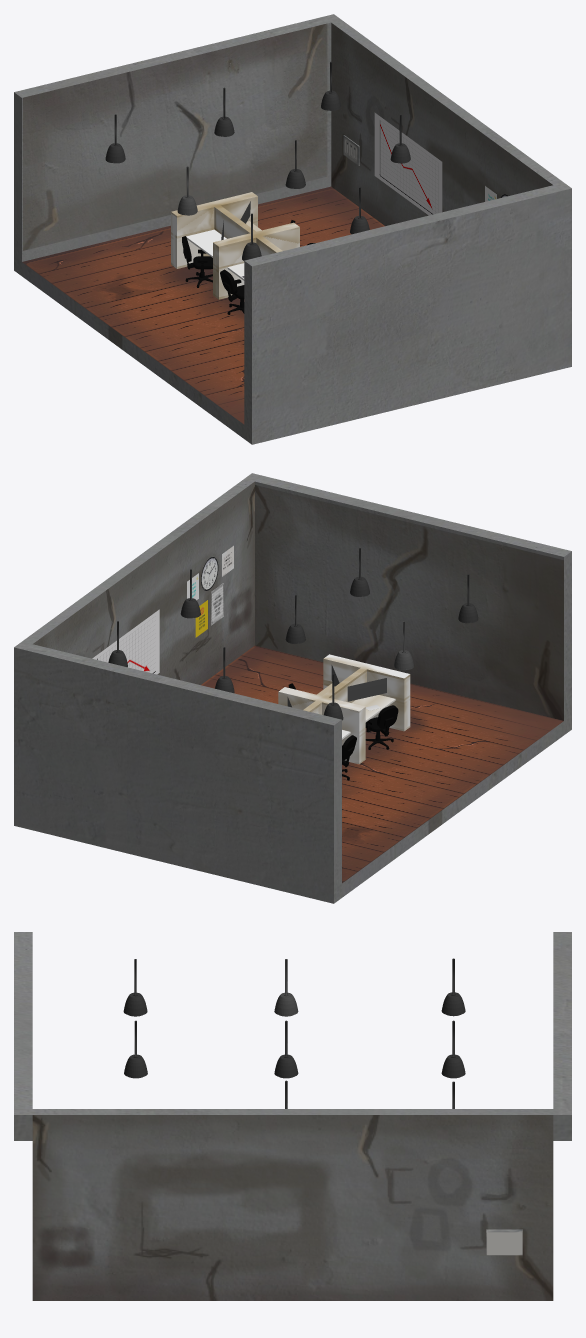
Rendered from oficina_opt.fbx.
3 views of the same model, one above another, from view 1: azimuth 30°, elevation 25°; view 2: azimuth 150°, elevation 25°; view 3: azimuth 270°, elevation 25° (orthographic). The views are drawn at different scales.
Parts seen in each view (by area): view 1: PM3D_Sphere3D1_2, oficina, PM3D_Sphere3D1_16.004, Cylinder_2_004.001, Cylinder_2_004; view 2: PM3D_Sphere3D1_2, oficina, PM3D_Sphere3D1_16.004, Cylinder_2_004.005, PM3D_Sphere3D1_11.002; view 3: PM3D_Sphere3D1_2, Cube.001, PM3D_Sphere3D1_15.008, PM3D_Sphere3D1_15.007, PM3D_Sphere3D1_15, PM3D_Sphere3D1_15.002, PM3D_Sphere3D1_15.001, PM3D_Sphere3D1_15.006.
Boxes of the visible parts, x1=… form: PM3D_Sphere3D1_2: x1=14, y1=14, x2=571, y2=444; oficina: x1=171, y1=192, x2=299, y2=299; PM3D_Sphere3D1_16.004: x1=374, y1=112, x2=442, y2=215; Cylinder_2_004.001: x1=182, y1=236, x2=212, y2=287; Cylinder_2_004: x1=220, y1=269, x2=244, y2=314; PM3D_Sphere3D1_2: x1=14, y1=473, x2=571, y2=903; oficina: x1=278, y1=654, x2=410, y2=764; PM3D_Sphere3D1_16.004: x1=92, y1=609, x2=159, y2=674; Cylinder_2_004.005: x1=365, y1=705, x2=398, y2=749; PM3D_Sphere3D1_11.002: x1=347, y1=678, x2=386, y2=701; PM3D_Sphere3D1_2: x1=14, y1=932, x2=571, y2=1300; Cube.001: x1=486, y1=1229, x2=522, y2=1255; PM3D_Sphere3D1_15.008: x1=123, y1=959, x2=147, y2=1016; PM3D_Sphere3D1_15.007: x1=274, y1=959, x2=298, y2=1016; PM3D_Sphere3D1_15: x1=274, y1=1020, x2=298, y2=1078; PM3D_Sphere3D1_15.002: x1=441, y1=1020, x2=465, y2=1078; PM3D_Sphere3D1_15.001: x1=124, y1=1020, x2=147, y2=1078; PM3D_Sphere3D1_15.006: x1=441, y1=958, x2=465, y2=1016.
Size of the model in its own units: 182 by 98.15 by 235.
Materials: 14 (12 with a texture image).
